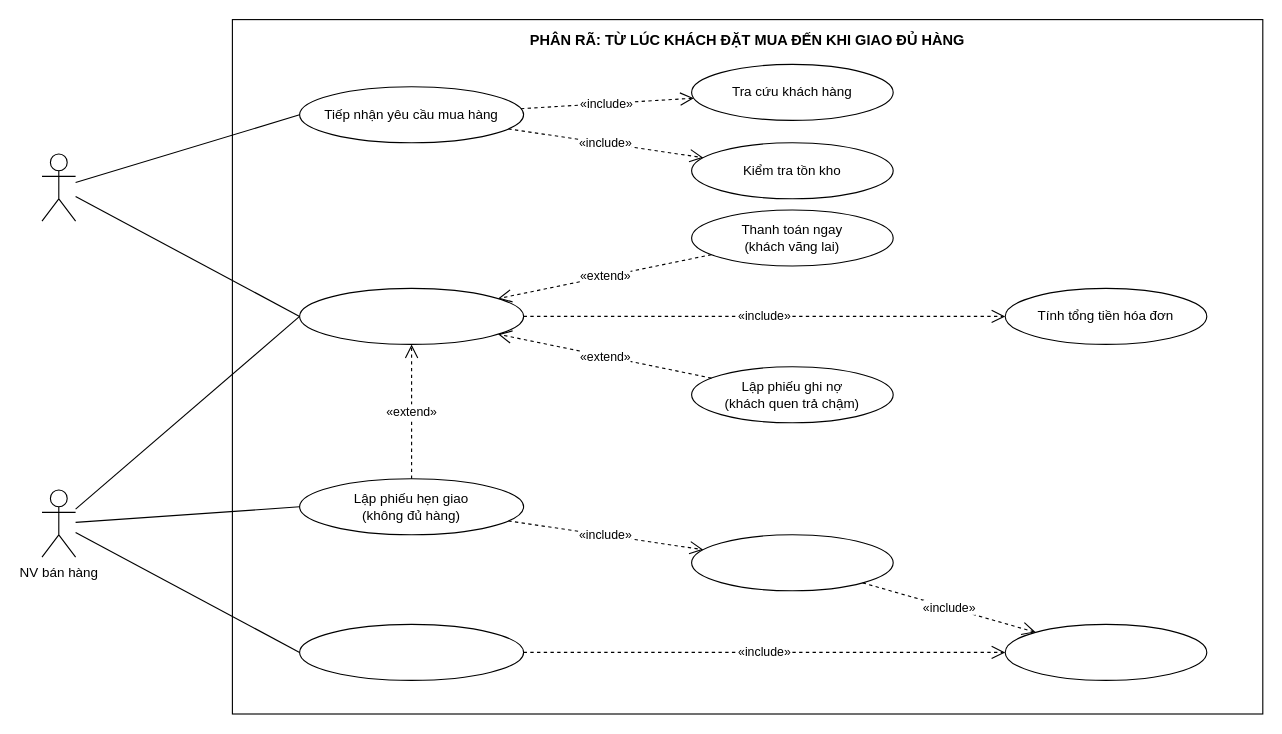
Some shapes in this 1282 by 734 pixel diagram are drawn without their labels. Each missing label, with the centre of its shape:
"Cập nhật tồn kho" goes at point (1105, 651).
"Giao hàng ngay" goes at point (411, 651).
"Giao hàng theo phiếu hẹn" goes at point (791, 562).
"Khách hàng" goes at point (58, 187).
"Lập hóa đơn bán hàng" goes at point (411, 315).
